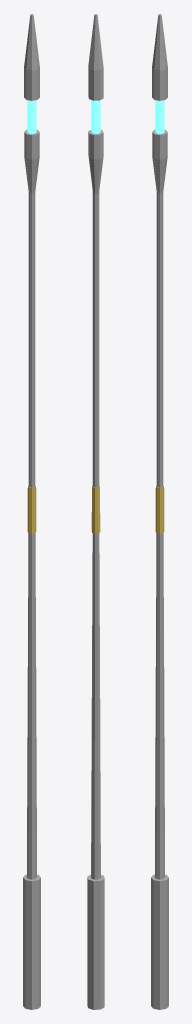
File: Lamp1.fbx
The picture shows the model from 3 angles, left to right: view 1: azimuth 90°, elevation 25°; view 2: azimuth 210°, elevation 25°; view 3: azimuth 270°, elevation 25°; orthographic projection.
Parts seen in each view (by area): view 1: Cylinder.004; view 2: Cylinder.004; view 3: Cylinder.004.
Part boxes in pixels (x1,y1,x2,y2): Cylinder.004: (23,14,40,1009); Cylinder.004: (87,14,104,1009); Cylinder.004: (151,14,168,1009).
Bounding box in the file's own units: 1.95 × 117 × 1.95.
